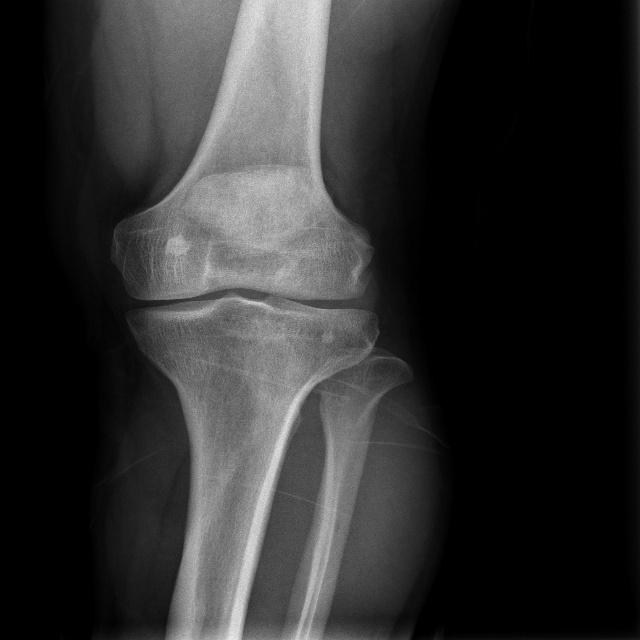Knee: (104, 227, 380, 368)
